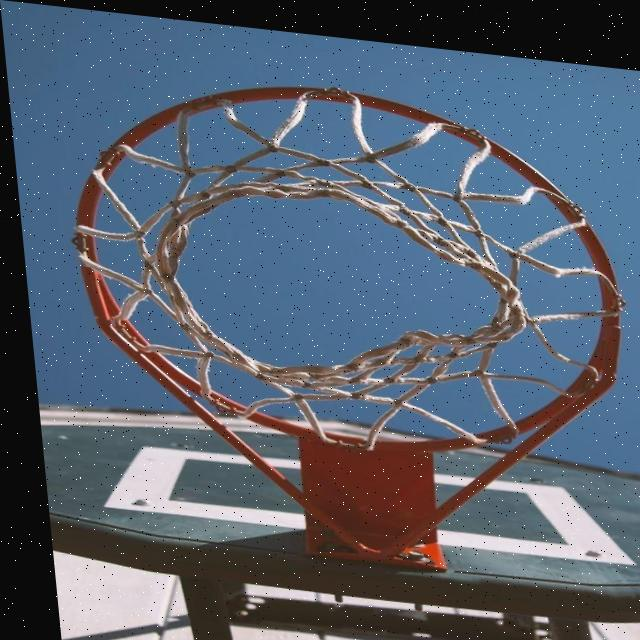hoop: (61, 62, 640, 560)
